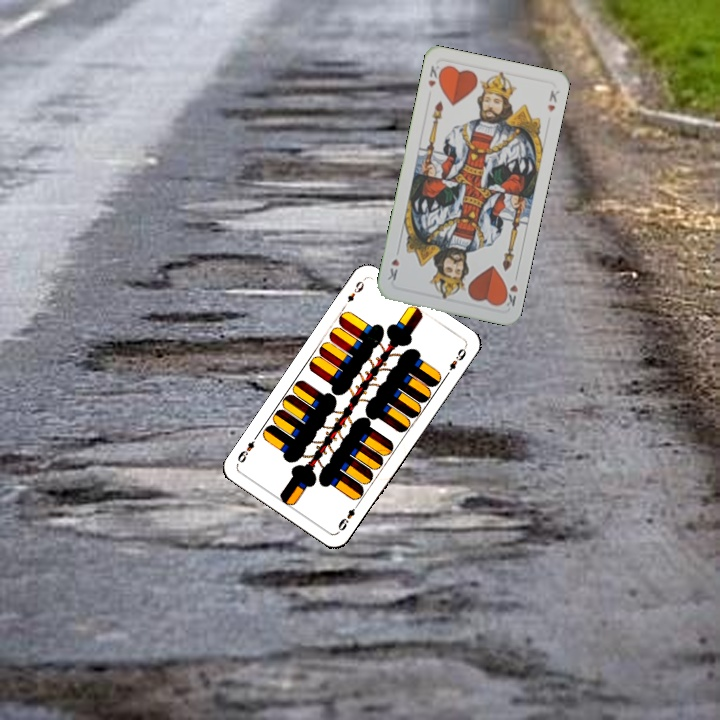E9: (340, 275, 368, 310), (334, 499, 361, 535)
HK: (498, 280, 520, 310), (424, 61, 445, 90)
